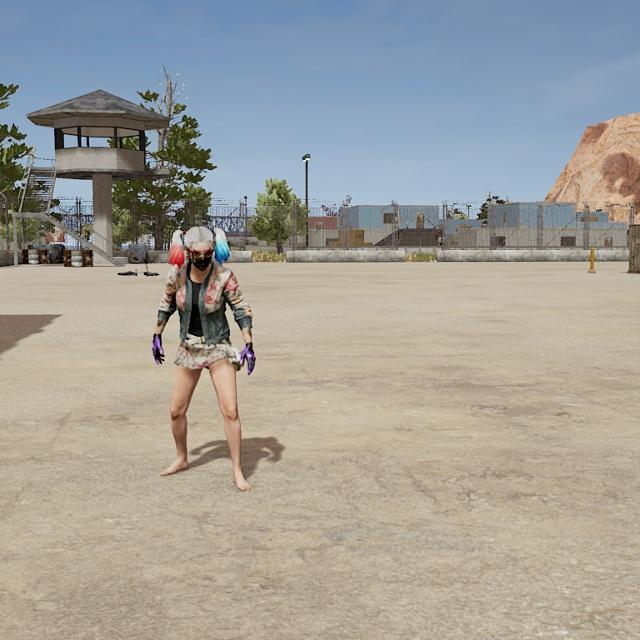head: (183, 226, 215, 271)
people: (150, 225, 258, 492)
